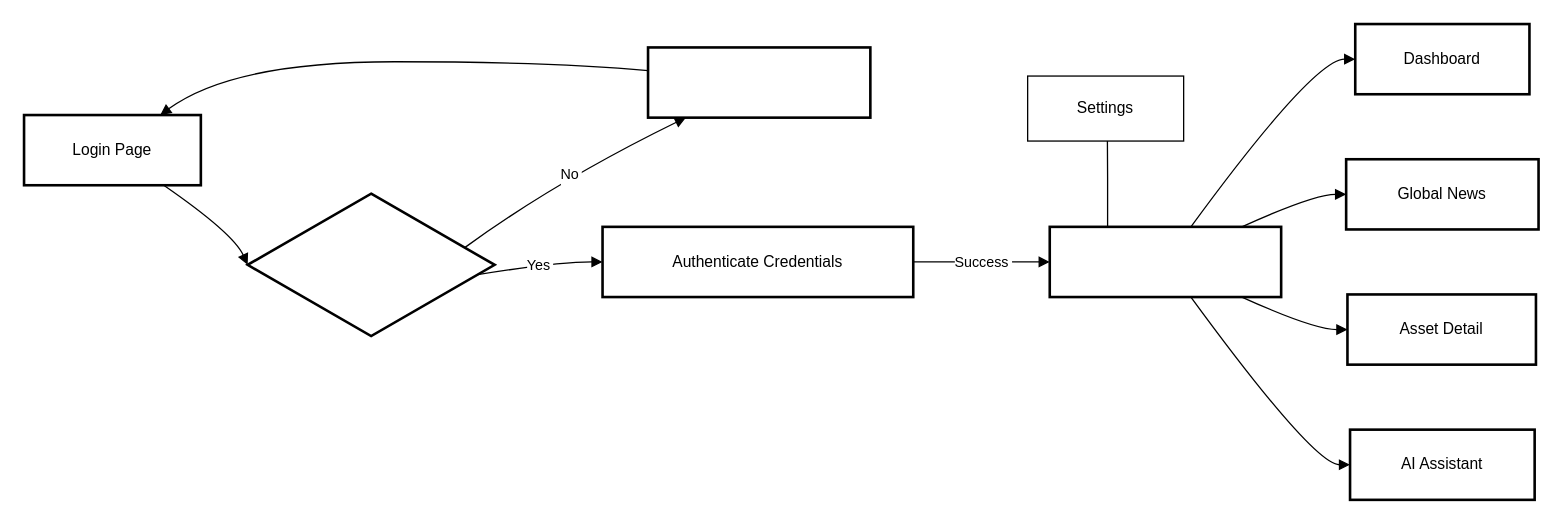
Some shapes in this 1561 by 523 pixel diagram are drawn without their labels. The shapes that lost their labels are listed below. From the top down, each one's centre as x and y in pixels, then its label:
At [758,82]: "Create Account".
At [370,264]: "Email exists in DB?".
At [1165,261]: "Main App".
